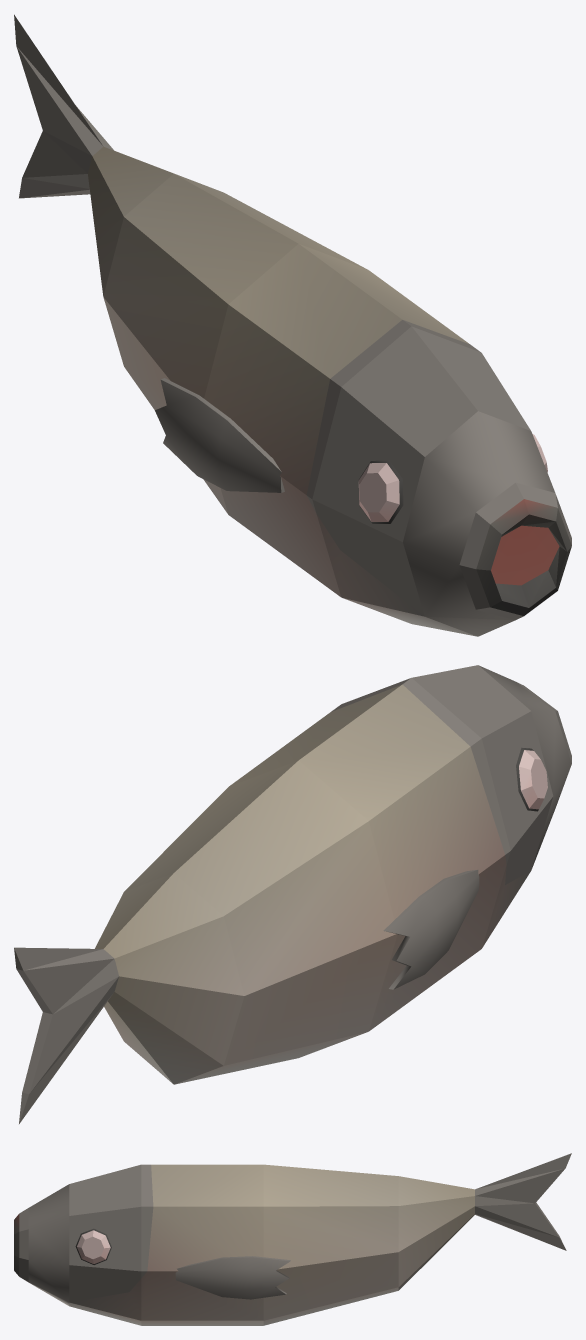
Rendered from BadFish.FBX.
3 renders of one model, top to bottom at view 1: azimuth 30°, elevation 25°; view 2: azimuth 150°, elevation 25°; view 3: azimuth 270°, elevation 25°, orthographic. The views are drawn at different scales.
Parts seen in each view (by area): view 1: BadFish1; view 2: BadFish1; view 3: BadFish1.
Part boxes in pixels (x1=…): BadFish1: x1=14, y1=14, x2=571, y2=636; BadFish1: x1=14, y1=665, x2=571, y2=1123; BadFish1: x1=14, y1=1153, x2=571, y2=1325.
Size of the model in its own units: 4.91 by 6.06 by 17.74.
